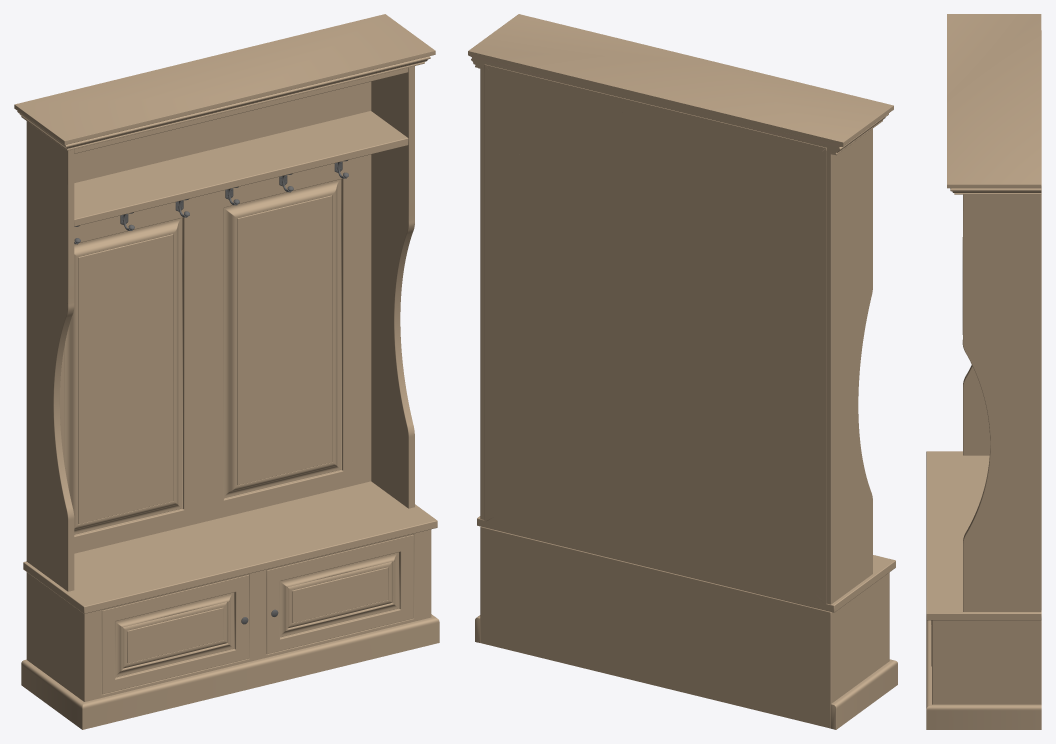
Rendered from wardrobe.glb.
3 views of the same model, side by side, from view 1: azimuth 30°, elevation 25°; view 2: azimuth 150°, elevation 25°; view 3: azimuth 270°, elevation 25° (orthographic). The views are drawn at different scales.
Parts seen in each view (by area): view 1: WM18180-001; view 2: WM18180-001; view 3: WM18180-001.
Part boxes in pixels (<box>): WM18180-001: <box>14,14,439,729</box>; WM18180-001: <box>468,14,897,729</box>; WM18180-001: <box>926,14,1041,729</box>.
Bounding box in the file's own units: 1.4 × 2.1 × 0.4003.
